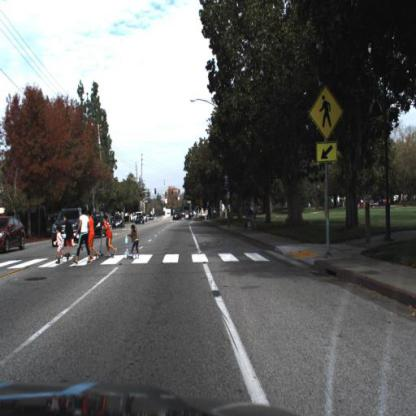car: (52, 207, 85, 243), (172, 209, 183, 225)
pedestrian: (75, 200, 92, 267), (73, 207, 91, 267), (100, 216, 116, 257), (125, 222, 144, 255), (103, 215, 117, 259), (86, 210, 98, 261), (64, 215, 74, 260), (57, 226, 65, 266)
trafficLight: (320, 60, 334, 87)
